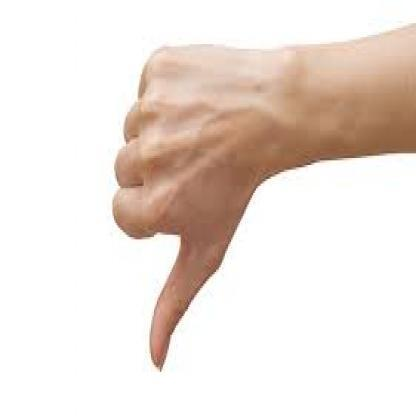thumb_down: (110, 40, 259, 376)
